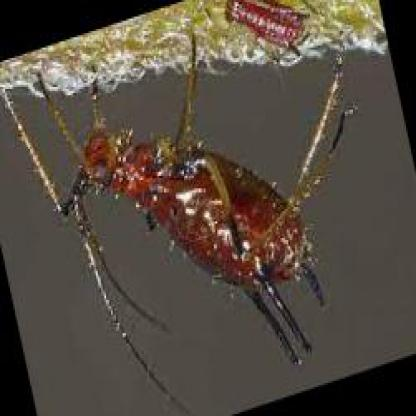uroleucon compositae: (61, 54, 348, 364)
